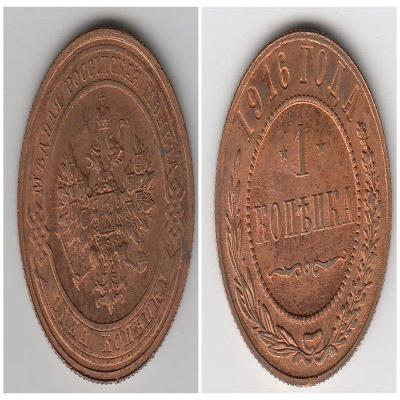numismatics: (18, 28, 195, 380), (215, 31, 391, 384)
